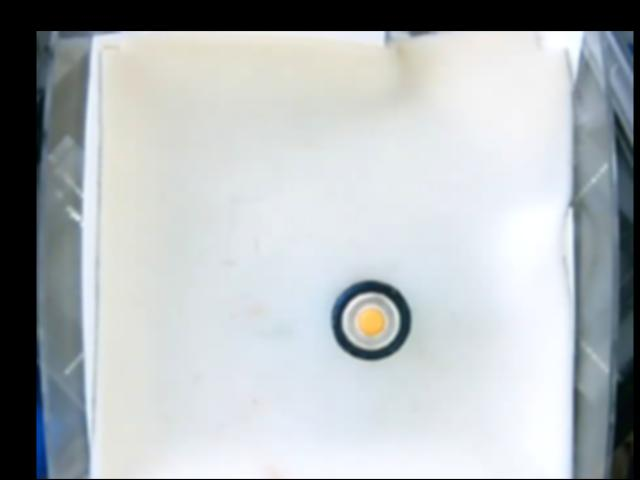Battery: (329, 277, 414, 364)
